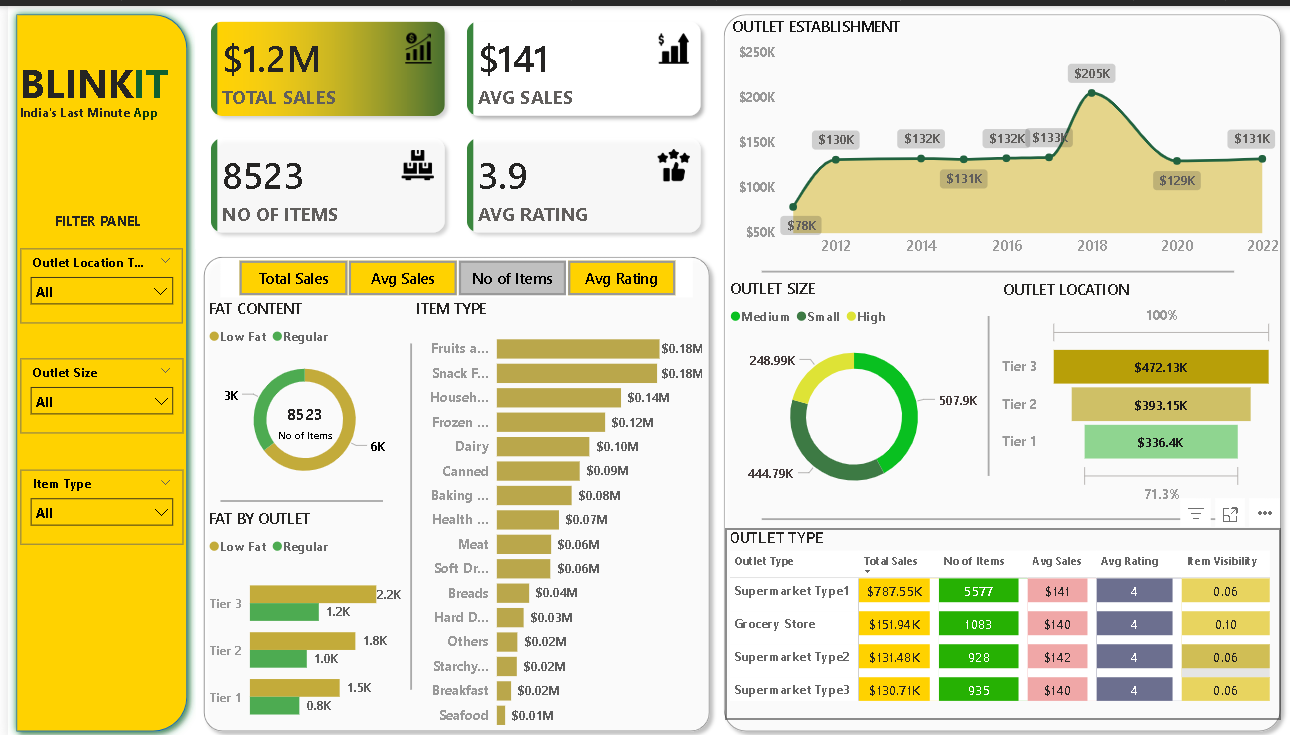

This screenshot's page, from the dashboard's own definition file:
{"tool":"powerbi","page":{"name":"Page 1","canvas":[1400,800],"ordinal":0},"visuals":[{"type":"shape","box":[0,0,204.5,800.3],"z":0},{"type":"textbox","box":[8.2,50.4,188.1,68.2],"z":1000},{"type":"textbox","box":[8.2,102.3,188.1,31.4],"z":2000},{"type":"cardVisual","fields":{"Data":["BlinkIT Grocery Data.Total Sales","BlinkIT Grocery Data.Avg Sales","BlinkIT Grocery Data.No of Items","BlinkIT Grocery Data.Avg Rating"]},"box":[204.5,0,569.9,264.5],"z":3000},{"type":"shape","box":[204.5,264.5,569.9,535.8],"z":4000},{"type":"donutChart","title":"FAT CONTENT","fields":{"Y":["BlinkIT Grocery Data.No of Items"],"Category":["BlinkIT Grocery Data.Item Fat Content"]},"box":[214,317.7,219.5,215.4],"z":5000},{"type":"slicer","fields":{"Values":["Metrics.Metrics"]},"box":[231.8,275.4,515.3,42.3],"z":6000},{"type":"card","fields":{"Values":["BlinkIT Grocery Data.No of Items"]},"box":[286.3,425.4,75,55.9],"z":7000},{"type":"clusteredBarChart","title":"FAT BY OUTLET","fields":{"Y":["BlinkIT Grocery Data.No of Items"],"Category":["BlinkIT Grocery Data.Outlet Location Type"],"Series":["BlinkIT Grocery Data.Item Fat Content"]},"box":[214,546.7,219.5,253.6],"z":8000},{"type":"shape","box":[231.8,533.1,177.2,13.6],"z":9000},{"type":"shape","box":[433.5,368.1,12.3,377.6],"z":10000},{"type":"barChart","title":"ITEM TYPE","fields":{"Y":["BlinkIT Grocery Data.Total Sales"],"Category":["BlinkIT Grocery Data.Item Type"]},"box":[440.4,317.7,321.7,482.6],"z":11000},{"type":"shape","box":[771.6,0,625.8,800.3],"z":12000},{"type":"areaChart","title":"OUTLET ESTABLISHMENT","fields":{"Y":["BlinkIT Grocery Data.Total Sales"],"Category":["BlinkIT Grocery Data.Outlet Establishment Year"]},"box":[783.9,9.5,606.7,274],"z":13000},{"type":"shape","box":[822.1,283.6,515.3,12.3],"z":14000},{"type":"donutChart","title":"OUTLET SIZE","fields":{"Category":["BlinkIT Grocery Data.Outlet Size"],"Y":["Sum(BlinkIT Grocery Data.Sales)"]},"box":[782,296.1,280.8,252.2],"z":15000},{"type":"funnel","title":"OUTLET LOCATION","fields":{"Category":["BlinkIT Grocery Data.Outlet Location Type"],"Y":["BlinkIT Grocery Data.Total Sales"]},"box":[1079.2,297.5,305.4,252.2],"z":16000},{"type":"shape","box":[1063.4,338.1,12.3,174.5],"z":17000},{"type":"shape","box":[822.1,553.5,515.3,12.3],"z":18000},{"type":"textbox","box":[46.4,219.5,110.4,30],"z":20000},{"type":"slicer","fields":{"Values":["BlinkIT Grocery Data.Outlet Location Type"]},"box":[13.6,264.5,177,81.8],"z":21000},{"type":"slicer","fields":{"Values":["BlinkIT Grocery Data.Outlet Size"]},"box":[13.6,384.5,177.2,81.8],"z":22000},{"type":"slicer","fields":{"Values":["BlinkIT Grocery Data.Item Type"]},"box":[13.6,505.8,177.2,81.8],"z":23000},{"type":"pivotTable","title":"OUTLET TYPE","fields":{"Rows":["BlinkIT Grocery Data.Outlet Type"],"Values":["BlinkIT Grocery Data.Total Sales","BlinkIT Grocery Data.No of Items","BlinkIT Grocery Data.Avg Sales","BlinkIT Grocery Data.Avg Rating","Avg(BlinkIT Grocery Data.Item Visibility)"]},"box":[782.6,569.9,605.3,208.6],"z":24000}]}

Visuals, with their boxes in screenshot pixels (x1, y1, x2, y2), scaled from the page's 1400x800 canvas onto the 1290x735 screenshot:
shape: 0/0/188/734
textbox: 8/46/181/109
textbox: 8/94/181/123
cardVisual - BlinkIT Grocery Data.Total Sales x BlinkIT Grocery Data.Avg Sales: 188/0/714/243
shape: 188/243/714/734
"FAT CONTENT" donutChart: 197/292/399/490
slicer - Metrics.Metrics: 214/253/688/292
card - BlinkIT Grocery Data.No of Items: 264/391/333/442
"FAT BY OUTLET" clusteredBarChart: 197/502/399/734
shape: 214/490/377/502
shape: 399/338/411/685
"ITEM TYPE" barChart: 406/292/702/734
shape: 711/0/1288/734
"OUTLET ESTABLISHMENT" areaChart: 722/9/1281/260
shape: 758/261/1232/272
"OUTLET SIZE" donutChart: 721/272/979/504
"OUTLET LOCATION" funnel: 994/273/1276/505
shape: 980/311/991/471
shape: 758/509/1232/520
textbox: 43/202/144/229
slicer - BlinkIT Grocery Data.Outlet Location Type: 13/243/176/318
slicer - BlinkIT Grocery Data.Outlet Size: 13/353/176/428
slicer - BlinkIT Grocery Data.Item Type: 13/465/176/540
"OUTLET TYPE" pivotTable: 721/524/1279/715
